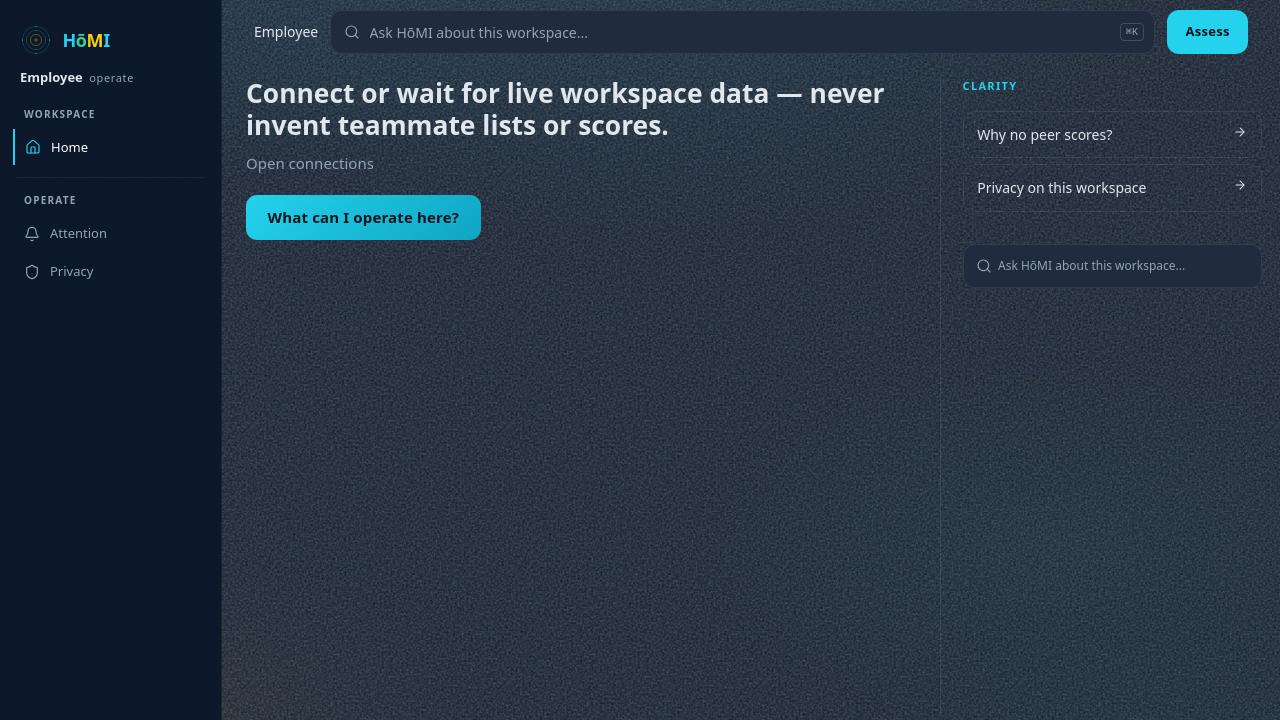
Employee v4 in Shell v4 › mobile Ask sheet is prompts only — no Open HōMI and no nav dump
The image size is (1280, 720).
Focus the field with placeholder "Ask HōMI about this workspace..." next to "⌘K". click: {"x": 743, "y": 32}
box: [330,10,1155,54]
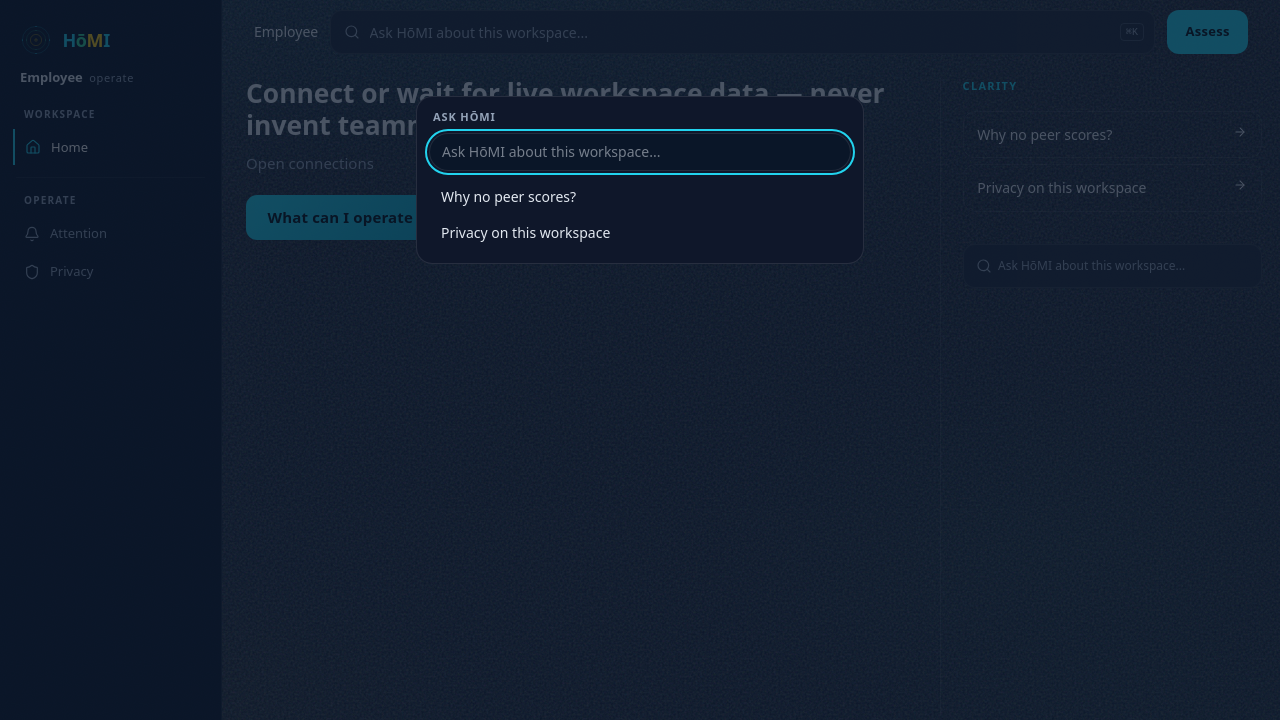
Check: the element showing "Ask HōMI Why no peer scores? Privacy on this workspace" is shown
